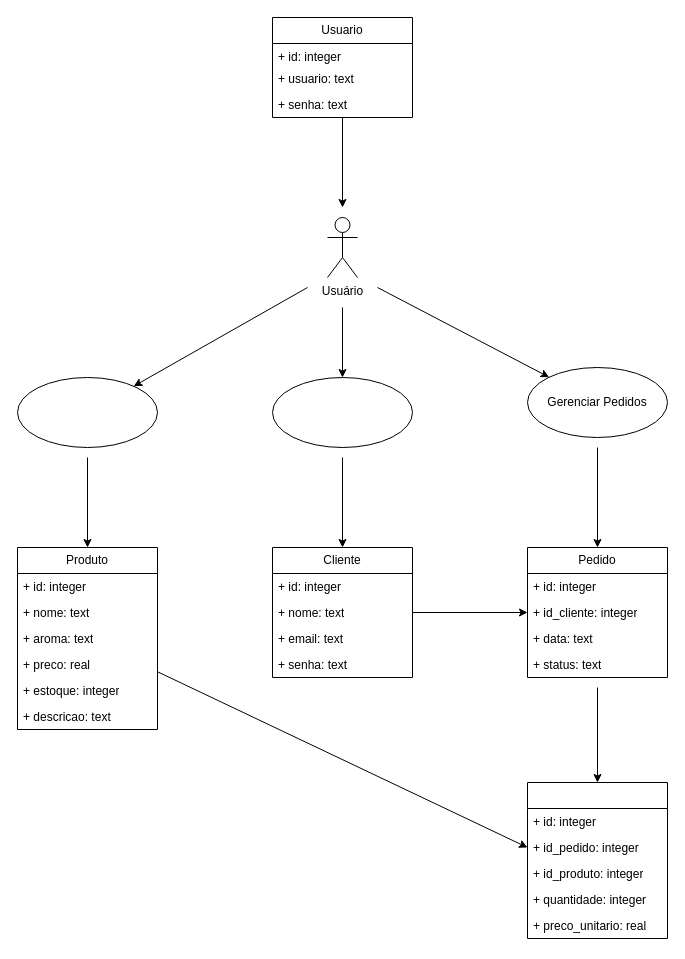
Some shapes in this 685 by 959 pixel diagram are drawn without their labels. The box of each missing label's shape, as (x1, y1, x2, y2) in pixels:
Gerenciar Clientes: (272, 376, 412, 448)
Gerenciar Produtos: (16, 376, 158, 448)
Item_pedido: (526, 782, 668, 938)
